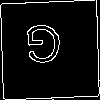G: (24, 24, 63, 73)
